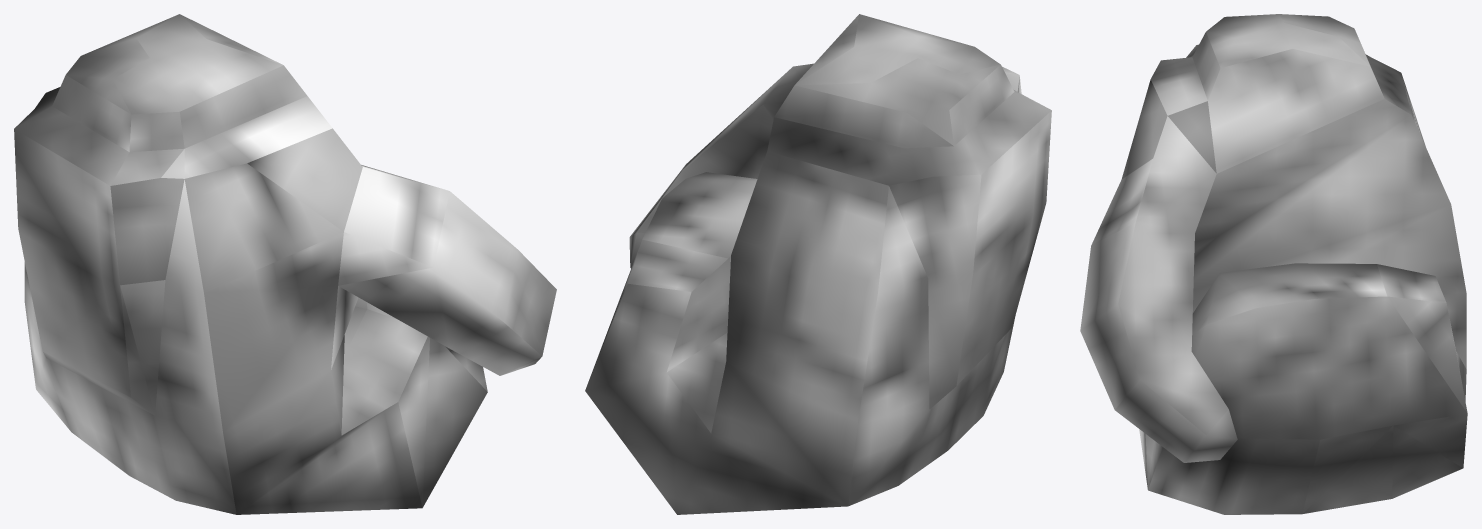
Rendered from r_hand.glb.
3 renders of one model, left to right at view 1: azimuth 30°, elevation 25°; view 2: azimuth 150°, elevation 25°; view 3: azimuth 270°, elevation 25°, orthographic. The views are drawn at different scales.
Parts seen in each view (by area): view 1: r_hand; view 2: r_hand; view 3: r_hand.
Boxes of the visible parts, box(x1,y1,x2,y2) form: r_hand: box(14, 14, 556, 514); r_hand: box(585, 14, 1051, 514); r_hand: box(1080, 14, 1467, 514).
Bounding box in the file's own units: 0.2814 × 0.2827 × 0.2421.
2 materials, 2 textured.
